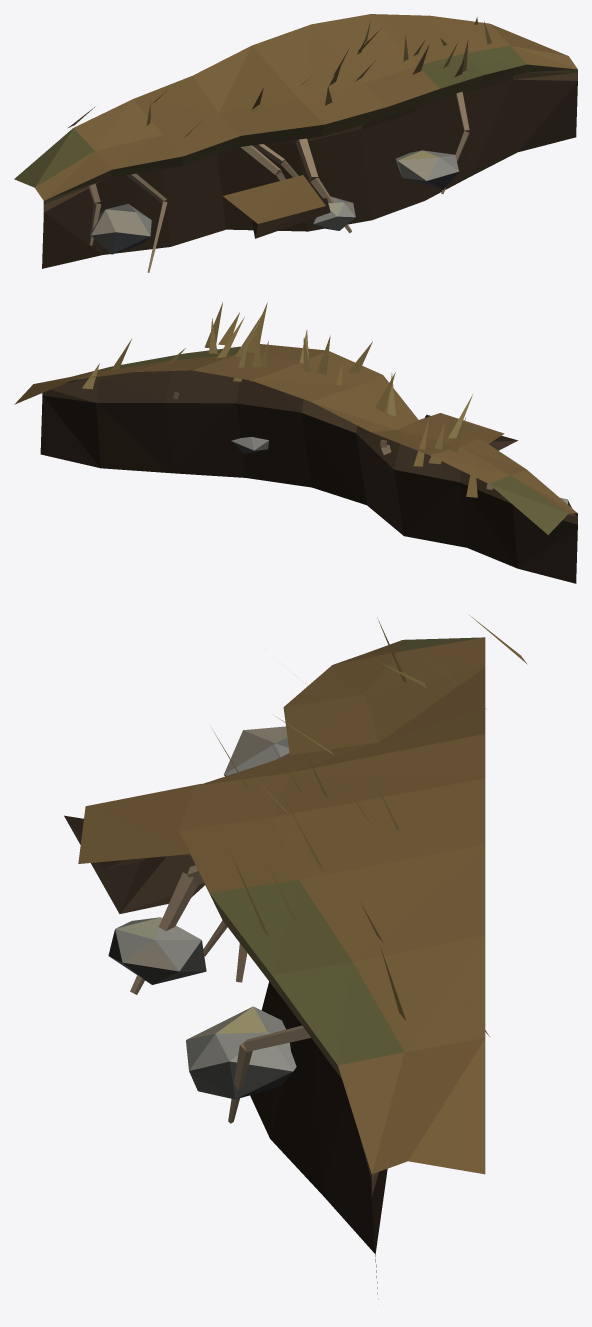
The model's file is bank-edge-1.glb.
3 views of the same model, one above another, from view 1: azimuth 30°, elevation 25°; view 2: azimuth 150°, elevation 25°; view 3: azimuth 270°, elevation 25° (orthographic). The views are drawn at different scales.
Visible parts, largest first — view 1: bank-edge-earth, bank-edge-stones, bank-edge-roots; view 2: bank-edge-earth, bank-edge-stones; view 3: bank-edge-earth, bank-edge-stones, bank-edge-roots.
Boxes of the visible parts, bbox=[...] form: bank-edge-earth: bbox=[14, 14, 577, 268]; bank-edge-stones: bbox=[91, 150, 458, 254]; bank-edge-roots: bbox=[88, 91, 469, 272]; bank-edge-earth: bbox=[14, 302, 577, 583]; bank-edge-stones: bbox=[231, 437, 571, 507]; bank-edge-earth: bbox=[64, 615, 527, 1299]; bank-edge-stones: bbox=[108, 726, 296, 1099]; bank-edge-roots: bbox=[130, 753, 310, 1123].
Bounding box in the file's own units: 3.4 × 1.04 × 1.28.
